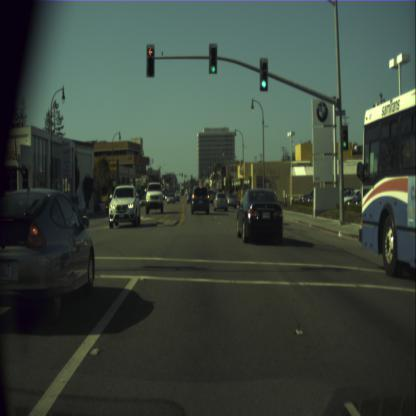Green: (208, 43, 217, 73), (260, 58, 268, 90), (342, 126, 348, 150)
RedLeft: (146, 43, 155, 76)
